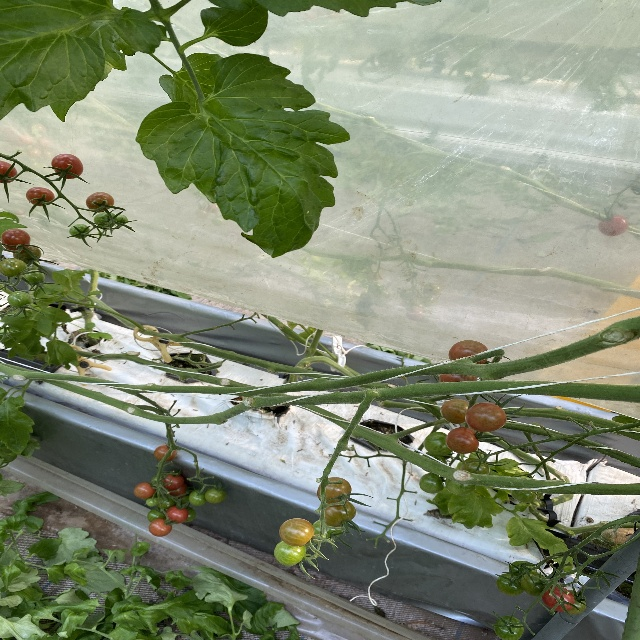l_fully_ripened: (51, 153, 84, 179), (542, 586, 575, 612), (1, 228, 31, 252), (0, 160, 18, 184), (166, 505, 188, 524), (163, 473, 184, 490), (168, 482, 187, 497)
l_green: (274, 540, 306, 566), (494, 615, 524, 640), (521, 572, 550, 596), (424, 432, 452, 456), (496, 572, 524, 596), (313, 519, 342, 541), (13, 245, 42, 264), (565, 590, 587, 615), (419, 472, 445, 493), (446, 479, 477, 496), (1, 258, 28, 277), (461, 458, 490, 475), (510, 561, 538, 578), (7, 291, 33, 308), (93, 211, 117, 229), (510, 490, 538, 503), (188, 489, 209, 506), (204, 487, 226, 503), (23, 270, 45, 285), (69, 224, 90, 239), (147, 509, 167, 522), (116, 214, 129, 225)
l_half_ripened: (465, 402, 508, 432), (278, 519, 315, 547), (317, 477, 351, 507), (449, 340, 489, 364), (445, 427, 480, 454), (325, 501, 356, 527), (441, 398, 470, 424), (86, 192, 114, 213), (26, 187, 55, 206), (148, 519, 172, 537), (154, 445, 177, 462), (133, 482, 154, 498)
